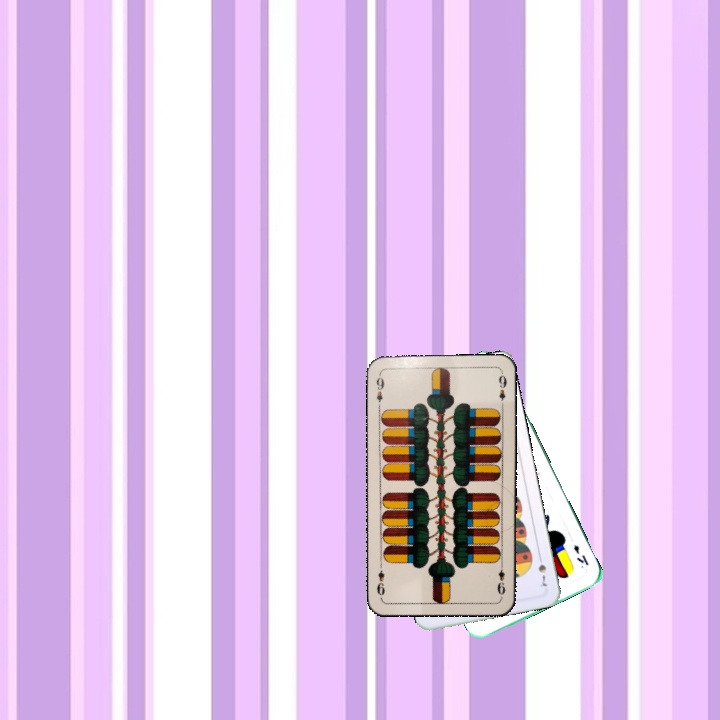E9: (493, 558, 508, 599), (372, 370, 387, 411)
EK: (569, 540, 591, 568)
S7: (534, 551, 550, 589)
